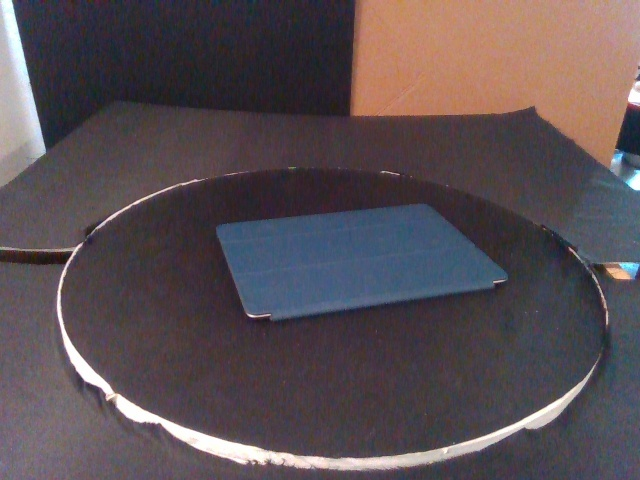laptop: (215, 201, 510, 323)
